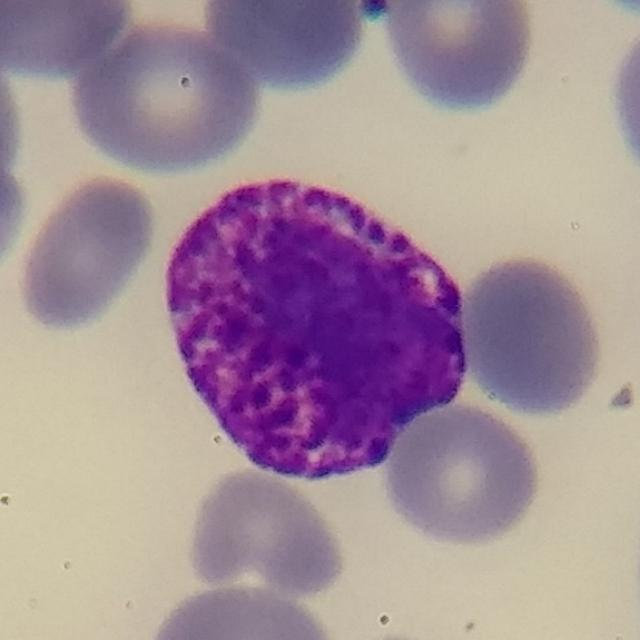Basophil: (147, 155, 486, 495)
Platelets: (604, 380, 639, 416), (356, 0, 394, 22)
RBC: (67, 12, 265, 177), (456, 248, 611, 420), (380, 396, 548, 550), (11, 169, 162, 336), (182, 463, 352, 602), (375, 0, 543, 118), (201, 0, 377, 90), (144, 579, 342, 640), (0, 0, 138, 78), (604, 12, 640, 193), (1, 164, 35, 266), (0, 75, 28, 182)
